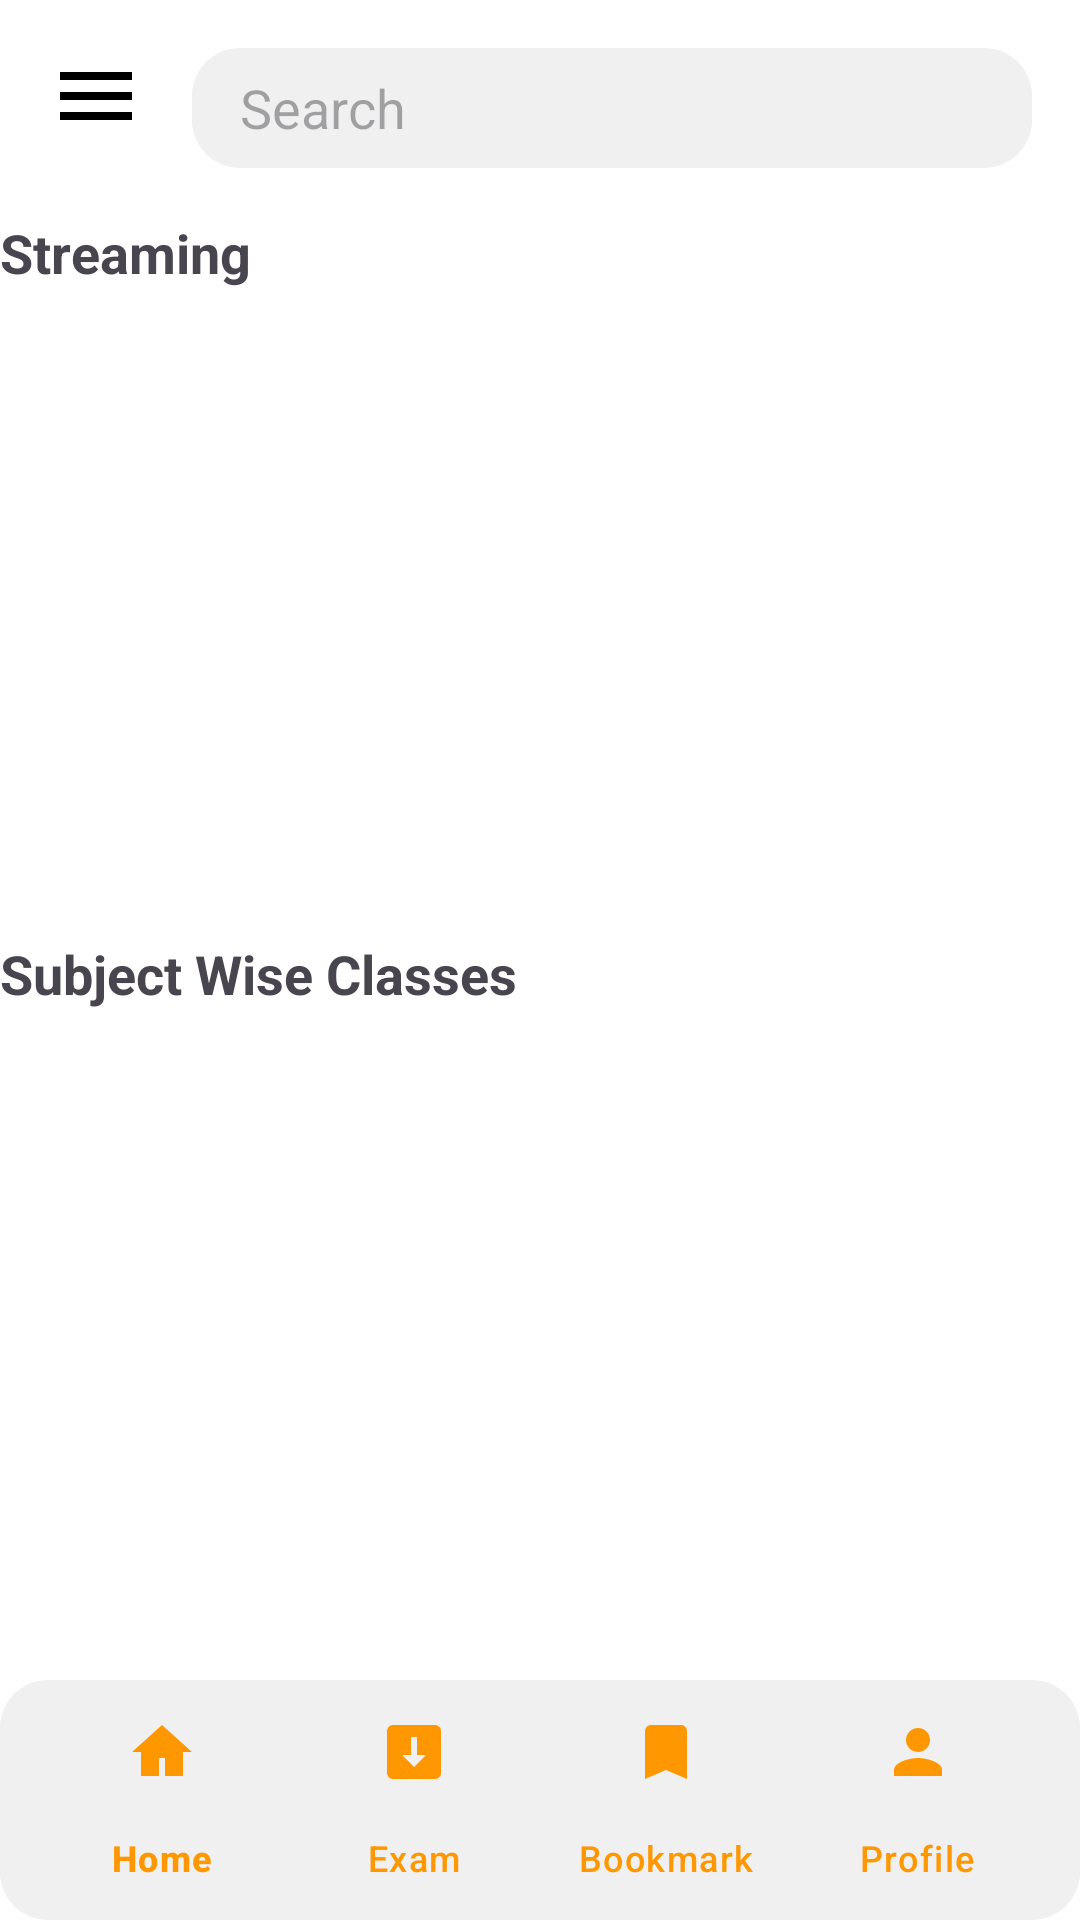

Where icons sit on this 1080px×1920px app screen, as [left=x1, top=y1, right=x2, bottom=y2]:
bar: [left=60, top=72, right=132, bottom=120]
